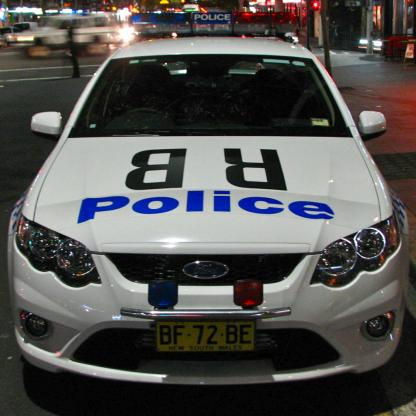Car: (8, 34, 411, 390)
